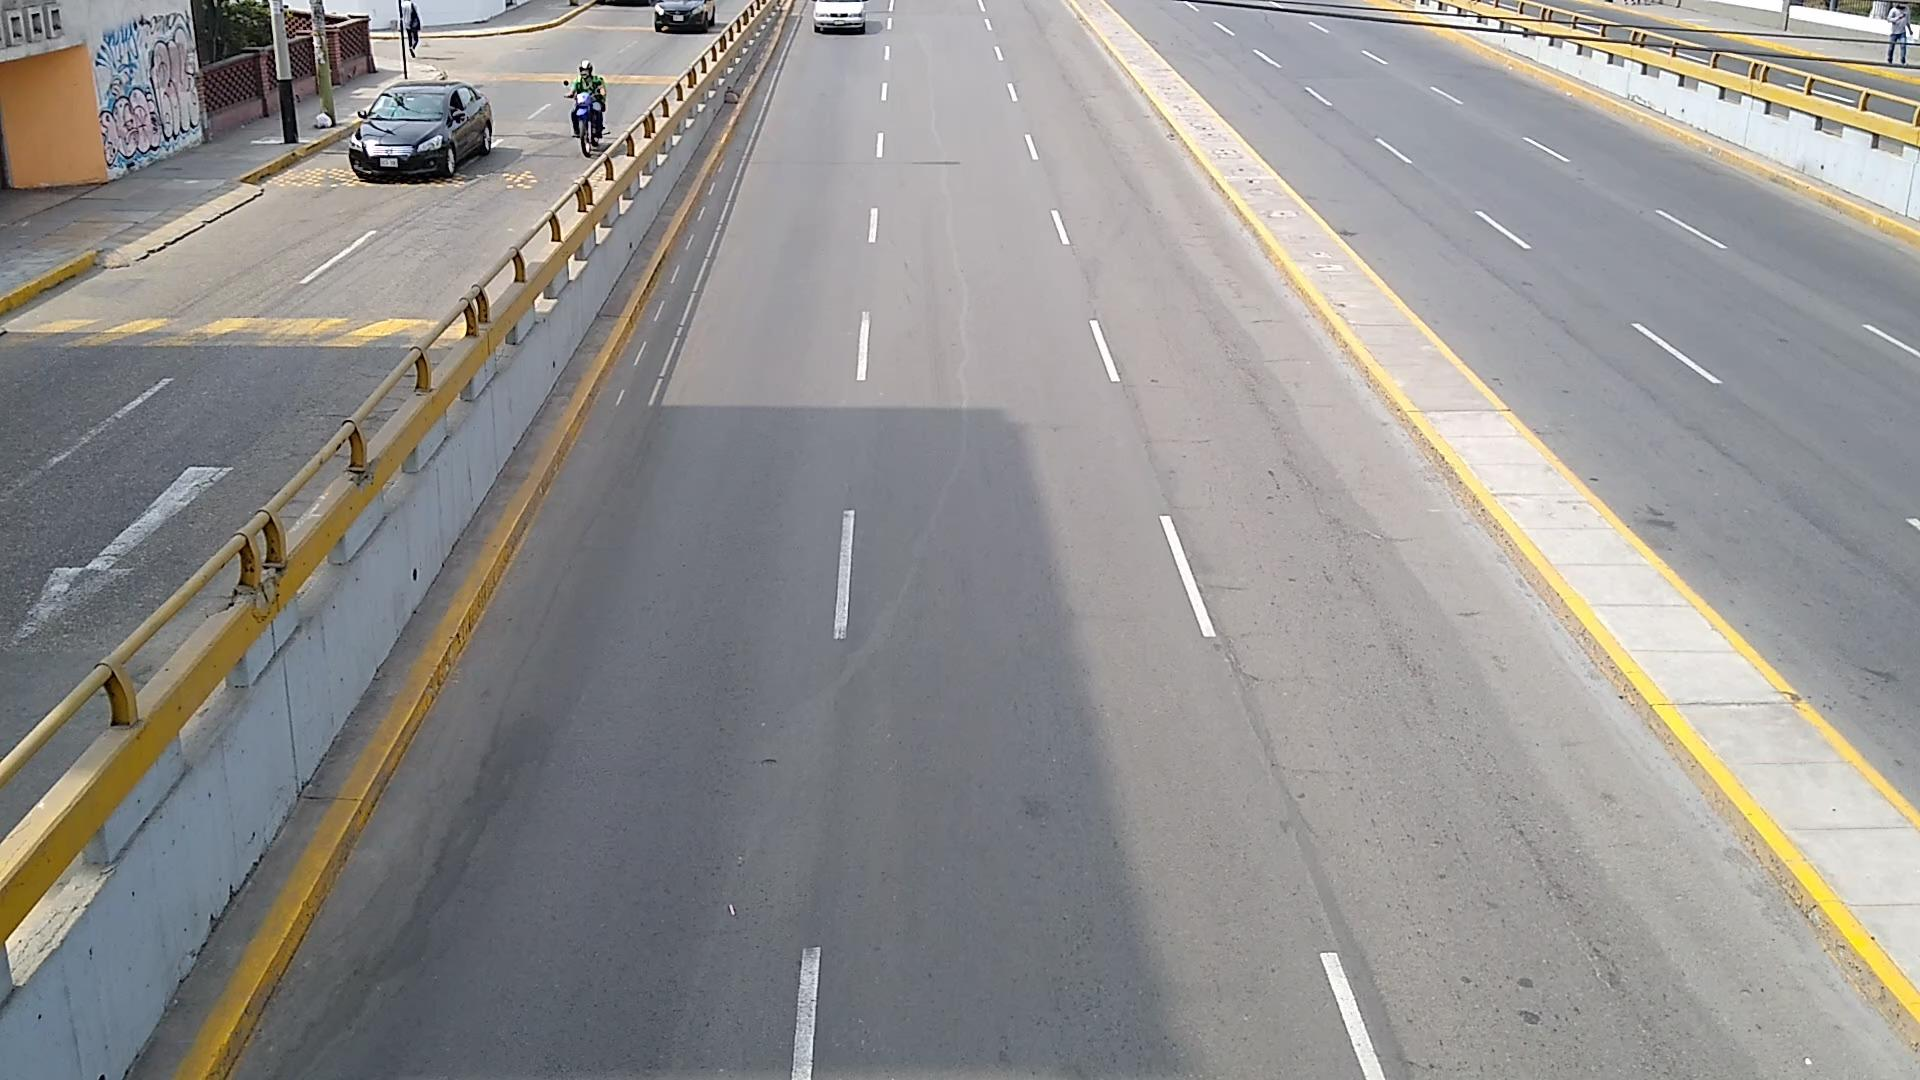car: (348, 83, 495, 179)
